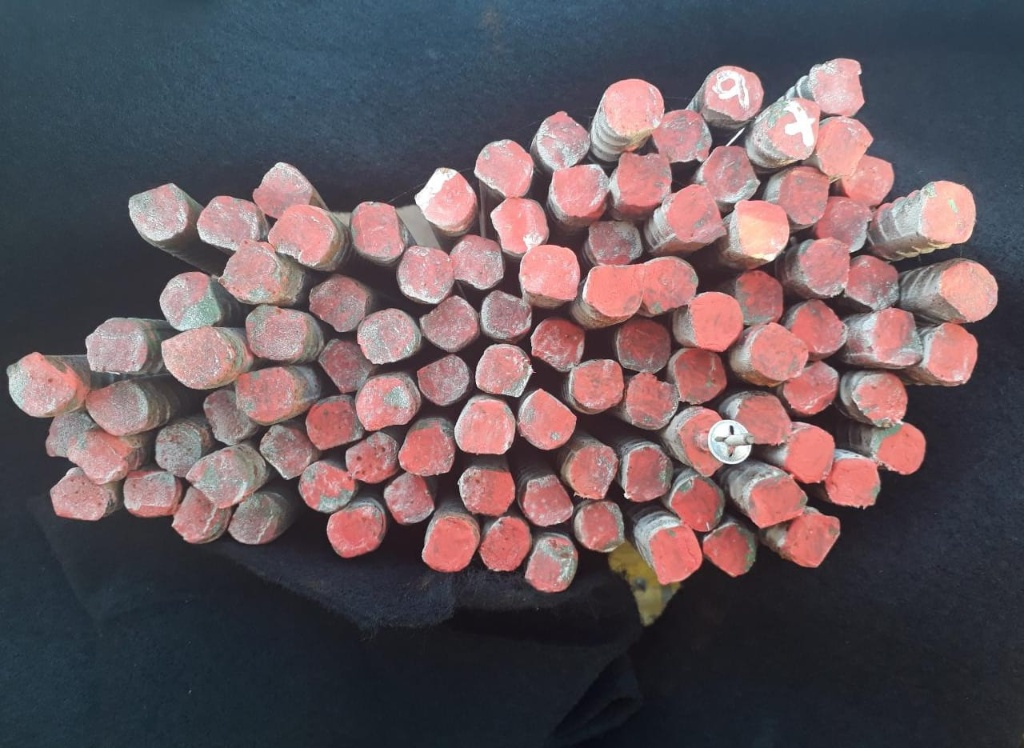dipstick: (7, 349, 76, 418), (160, 329, 233, 388), (196, 195, 270, 252), (267, 203, 334, 265), (730, 195, 790, 264), (220, 241, 283, 305), (917, 177, 976, 244), (938, 260, 999, 322), (85, 313, 147, 374), (244, 300, 307, 360), (159, 272, 223, 331), (665, 185, 727, 245), (171, 483, 231, 545), (356, 307, 421, 364), (517, 390, 577, 450), (308, 273, 368, 333), (234, 367, 298, 423), (864, 307, 924, 366), (415, 167, 476, 225), (354, 374, 417, 430), (768, 96, 821, 162), (455, 395, 515, 453), (349, 201, 407, 261), (128, 182, 188, 240), (815, 118, 875, 175), (751, 321, 808, 381), (474, 139, 534, 196), (537, 112, 593, 173), (869, 416, 926, 475), (605, 79, 664, 136), (640, 258, 699, 315), (305, 395, 364, 452), (748, 473, 808, 529), (690, 292, 746, 352), (652, 108, 712, 164), (186, 450, 246, 506), (648, 524, 703, 585), (926, 324, 980, 386), (420, 296, 479, 352), (519, 244, 579, 299), (552, 164, 612, 219), (448, 233, 505, 290), (704, 145, 760, 203), (254, 159, 312, 215), (522, 536, 577, 595), (398, 243, 453, 302), (86, 381, 145, 436), (850, 372, 910, 426), (68, 433, 129, 486), (680, 409, 727, 477), (782, 360, 840, 415), (706, 65, 764, 120), (672, 347, 728, 403), (791, 297, 848, 352), (615, 317, 670, 374), (783, 514, 841, 568), (702, 519, 756, 577), (491, 200, 549, 254), (845, 255, 901, 310), (670, 476, 726, 531), (260, 424, 314, 481), (617, 150, 671, 206), (813, 57, 865, 115), (479, 515, 531, 573), (383, 469, 436, 525), (816, 194, 867, 252), (583, 264, 641, 315), (786, 425, 836, 484), (802, 236, 851, 296), (826, 455, 881, 508), (319, 337, 371, 393), (626, 372, 677, 429), (422, 517, 474, 572), (298, 461, 353, 513), (736, 395, 792, 446), (780, 165, 829, 223), (398, 424, 452, 476), (523, 472, 574, 527), (574, 500, 626, 553), (531, 319, 584, 371), (346, 431, 398, 484), (624, 445, 672, 502), (326, 509, 383, 557), (736, 269, 783, 327), (569, 446, 619, 500), (415, 355, 469, 405), (474, 346, 529, 395), (122, 472, 180, 518), (227, 495, 281, 544), (50, 477, 108, 522), (843, 155, 895, 205), (460, 468, 515, 515), (572, 358, 623, 408), (45, 412, 99, 458), (588, 221, 643, 266), (479, 290, 532, 336), (155, 424, 201, 472)
